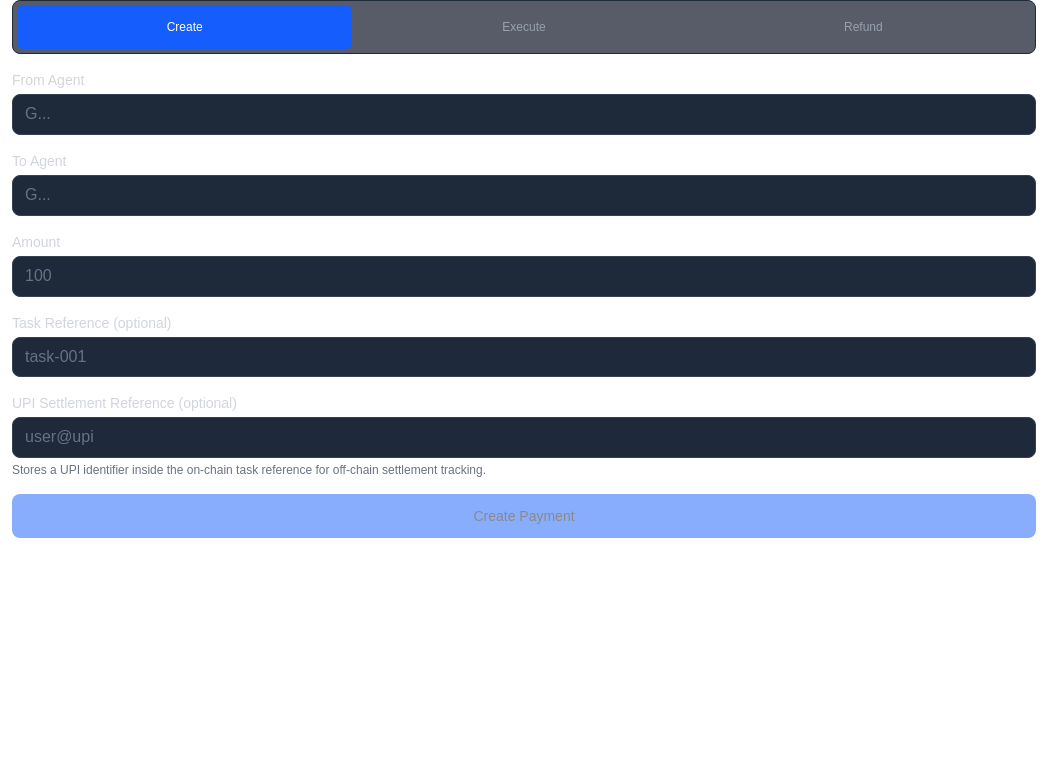
it: PaymentForm › enables submit when required fields filled
Type "GA7Q3B7V6QV4" into the field with placeholder "G..." below "From Agent" at (524, 114), box [12,94,1036,135]
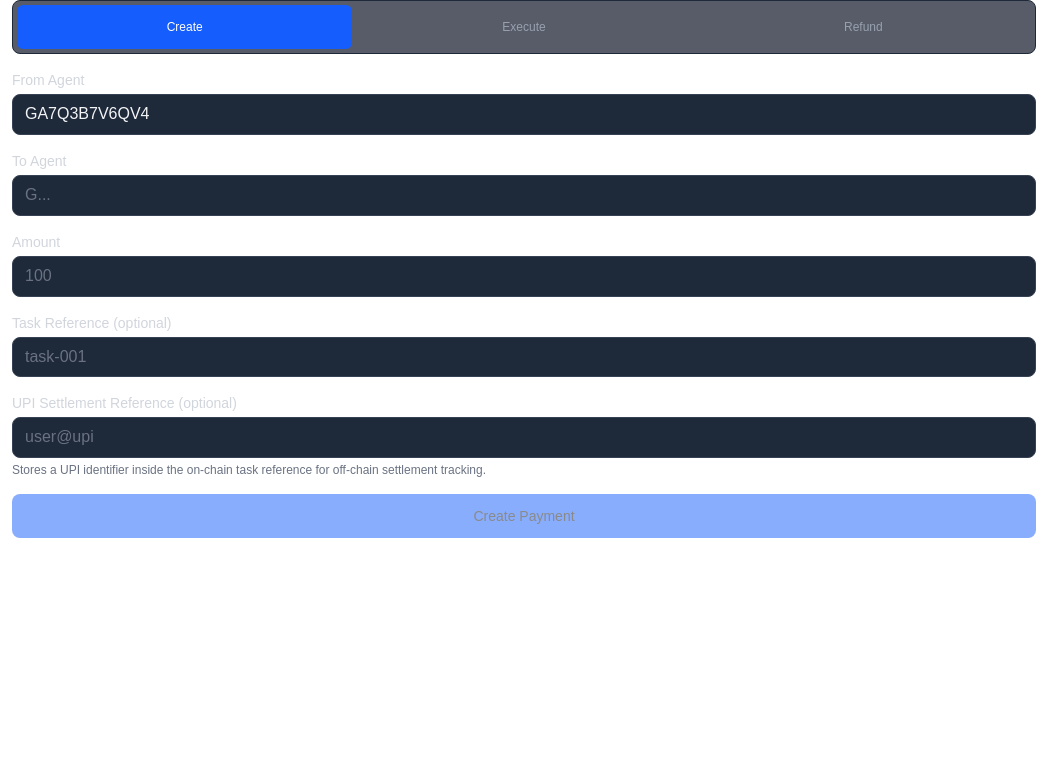
Type "GB7Q3B7V6QV4" into the field with placeholder "G..." at (524, 195), box [12,175,1036,216]
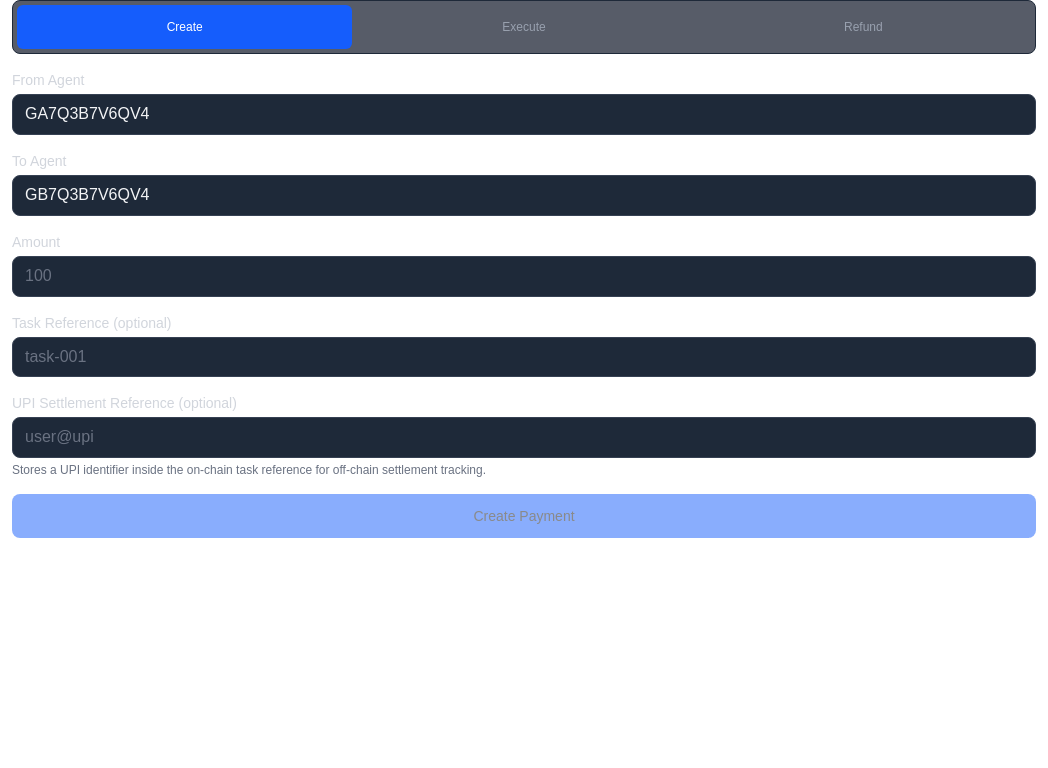
Type "500" into the number field with placeholder "100" at (524, 276), box [12,256,1036,296]
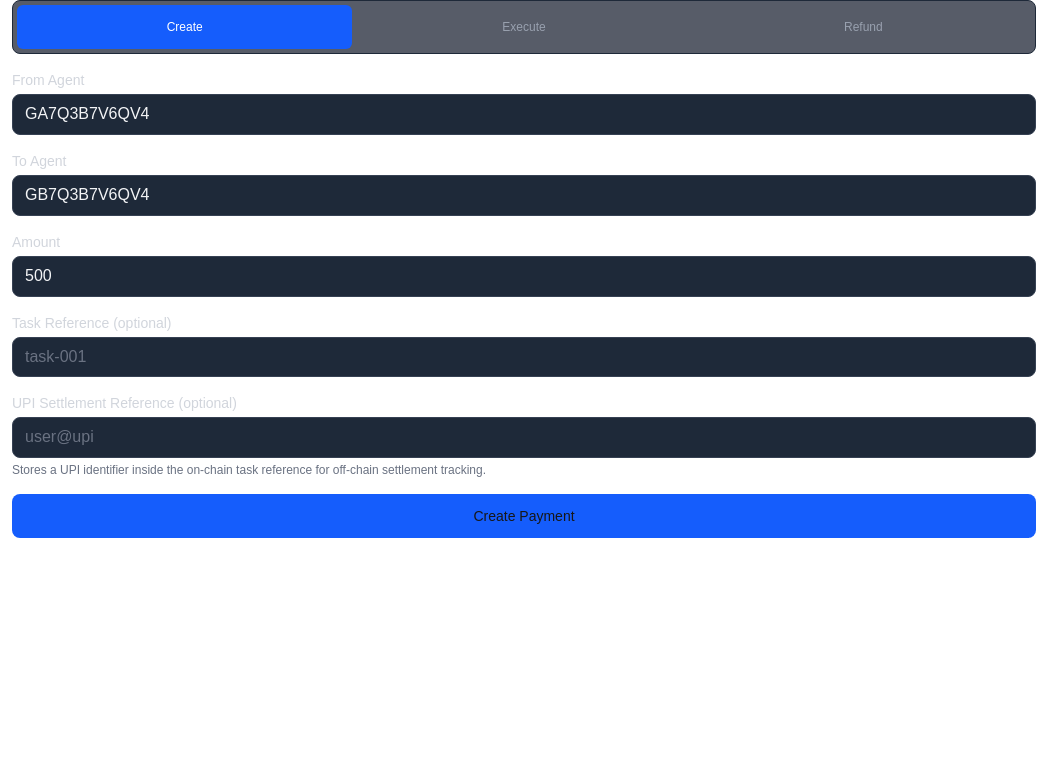
Now the button "Create Payment" is enabled, box [12,494,1036,538]
